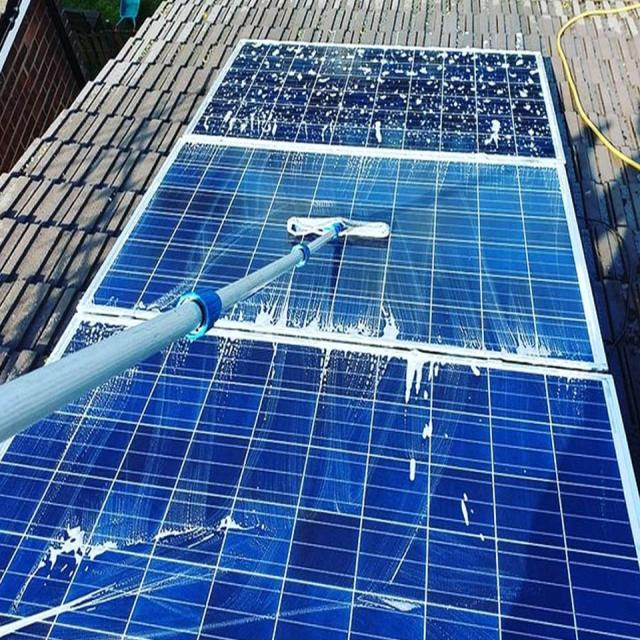dust-solar-panel: (184, 38, 557, 154)
